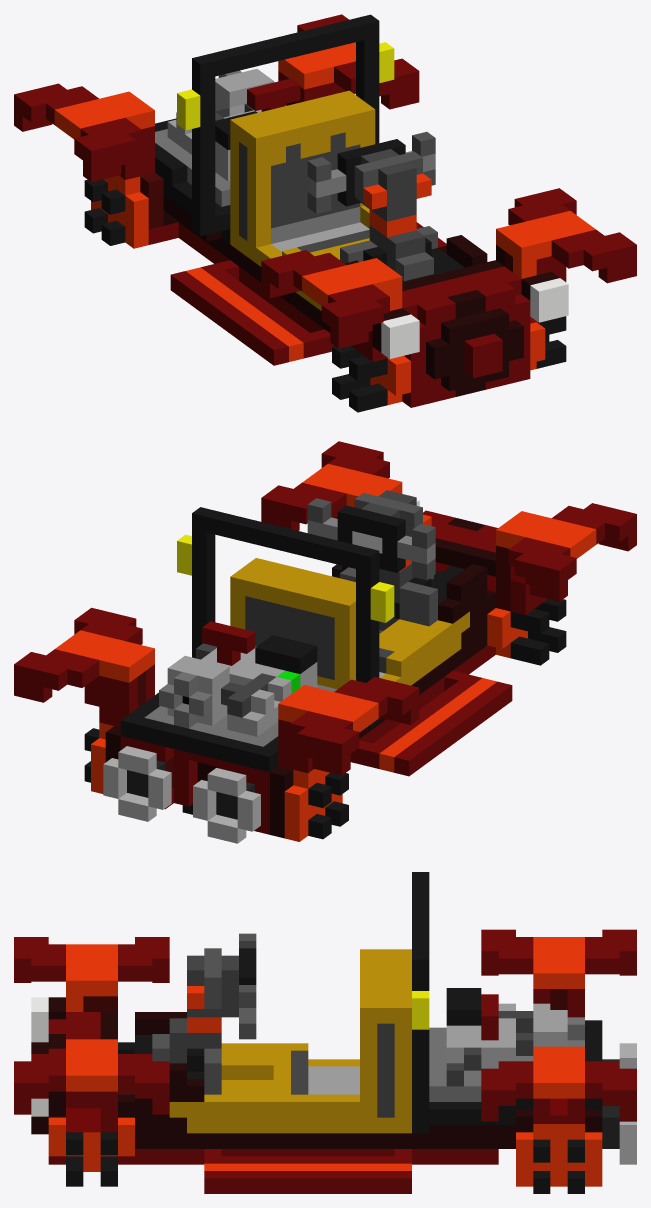
File: Multi_Red_Kart_Chassis.obj
3 renders of one model, top to bottom at view 1: azimuth 30°, elevation 25°; view 2: azimuth 150°, elevation 25°; view 3: azimuth 270°, elevation 25°, orthographic.
Size of the model in its own units: 2.2 by 1.5 by 3.6.
1 material, 1 textured.
